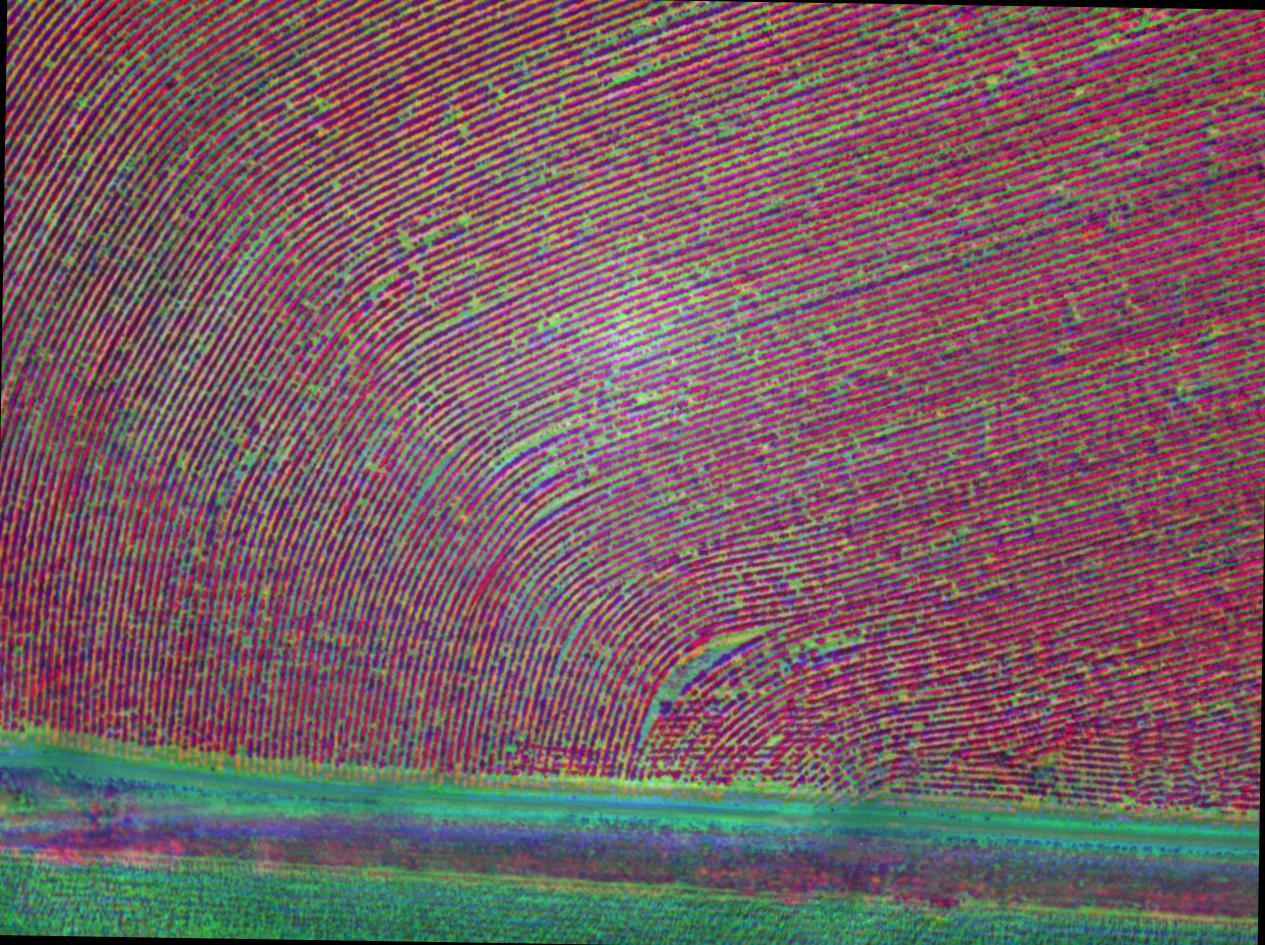dc: (541, 0, 703, 131), (116, 183, 254, 323), (651, 610, 761, 721), (388, 240, 502, 345), (131, 398, 247, 488)
